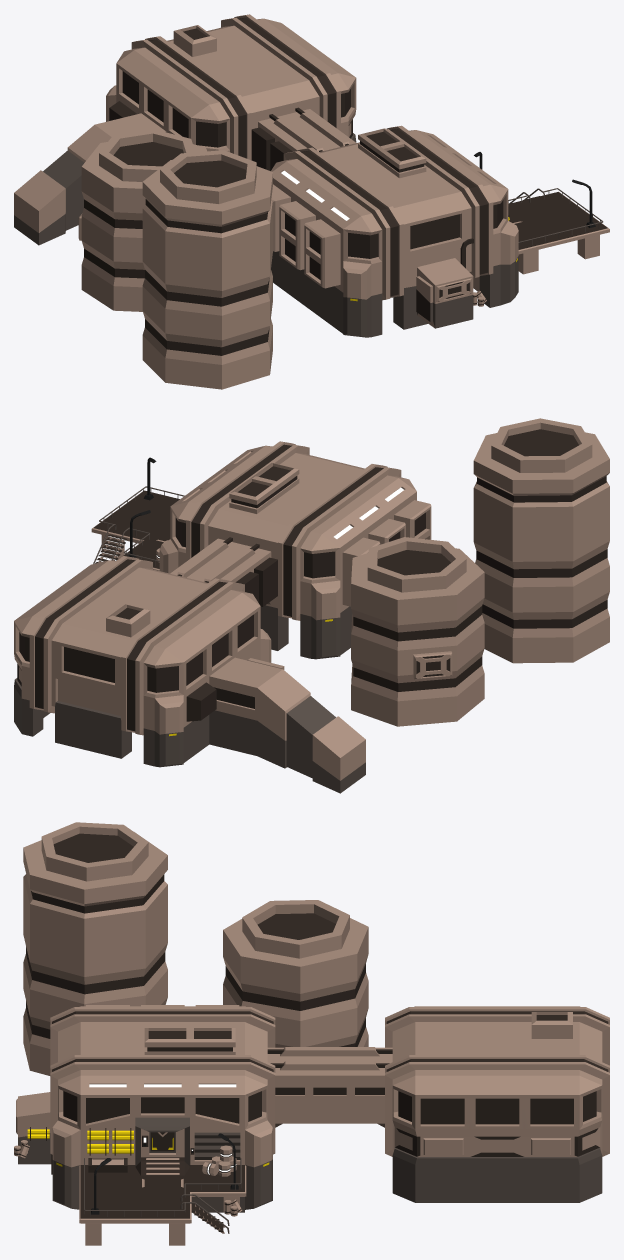
The model's file is outpost_a.glb.
3 renders of one model, top to bottom at view 1: azimuth 30°, elevation 25°; view 2: azimuth 150°, elevation 25°; view 3: azimuth 270°, elevation 25°, orthographic. The views are drawn at different scales.
Parts seen in each view (by area): view 1: outpost_a_mesh; view 2: outpost_a_mesh; view 3: outpost_a_mesh.
Part boxes in pixels (left/top/right/bottom): outpost_a_mesh: left=14, top=14, right=609, bottom=389; outpost_a_mesh: left=14, top=418, right=609, bottom=793; outpost_a_mesh: left=14, top=822, right=609, bottom=1245.
Size of the model in its own units: 35.91 by 15.29 by 37.55.
